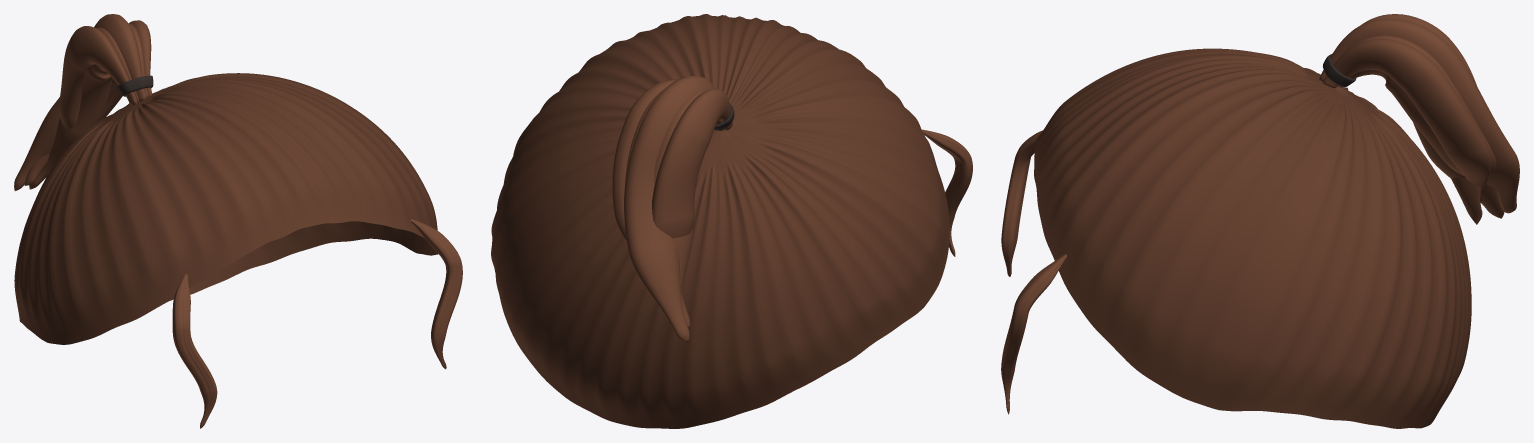
File: ponytail-none-default.glb
The picture shows the model from 3 angles, left to right: view 1: azimuth 30°, elevation 25°; view 2: azimuth 150°, elevation 25°; view 3: azimuth 270°, elevation 25°; orthographic projection. The views are drawn at different scales.
Parts seen in each view (by area): view 1: Hair / swept roots220, Hair / rounded tail220 0, Hair / rounded tail220 2, Hair / rounded tail220 1, Hair / adjustable front216 -1, Hair / adjustable front216 1, Hair / rounded tail220 3, Hair / rounded tail220 4, Hair / tie220; view 2: Hair / swept roots220, Hair / rounded tail220 2, Hair / rounded tail220 0, Hair / rounded tail220 4, Hair / adjustable front216 -1, Hair / rounded tail220 1; view 3: Hair / swept roots220, Hair / rounded tail220 4, Hair / rounded tail220 2, Hair / adjustable front216 1, Hair / rounded tail220 3, Hair / adjustable front216 -1, Hair / rounded tail220 0, Hair / rounded tail220 1.
Part boxes in pixels (<box>): Hair / swept roots220: <box>14,73,438,344</box>; Hair / rounded tail220 0: <box>59,26,137,128</box>; Hair / rounded tail220 2: <box>14,14,147,190</box>; Hair / rounded tail220 1: <box>29,27,139,189</box>; Hair / adjustable front216 -1: <box>172,274,217,428</box>; Hair / adjustable front216 1: <box>410,219,462,369</box>; Hair / rounded tail220 3: <box>24,23,148,185</box>; Hair / rounded tail220 4: <box>47,20,152,175</box>; Hair / tie220: <box>117,75,153,96</box>; Hair / swept roots220: <box>491,14,949,428</box>; Hair / rounded tail220 2: <box>624,75,715,342</box>; Hair / rounded tail220 0: <box>652,89,732,238</box>; Hair / rounded tail220 4: <box>612,79,676,242</box>; Hair / adjustable front216 -1: <box>922,129,972,256</box>; Hair / rounded tail220 1: <box>654,89,724,292</box>; Hair / swept roots220: <box>1034,48,1471,428</box>; Hair / rounded tail220 4: <box>1322,39,1491,202</box>; Hair / rounded tail220 2: <box>1319,18,1519,213</box>; Hair / adjustable front216 1: <box>1001,254,1066,414</box>; Hair / rounded tail220 3: <box>1324,35,1496,178</box>; Hair / adjustable front216 -1: <box>1001,130,1042,276</box>; Hair / rounded tail220 0: <box>1361,14,1482,224</box>; Hair / rounded tail220 1: <box>1413,122,1504,218</box>.
Size of the model in its own units: 0.7726 by 0.6271 by 0.8121.
